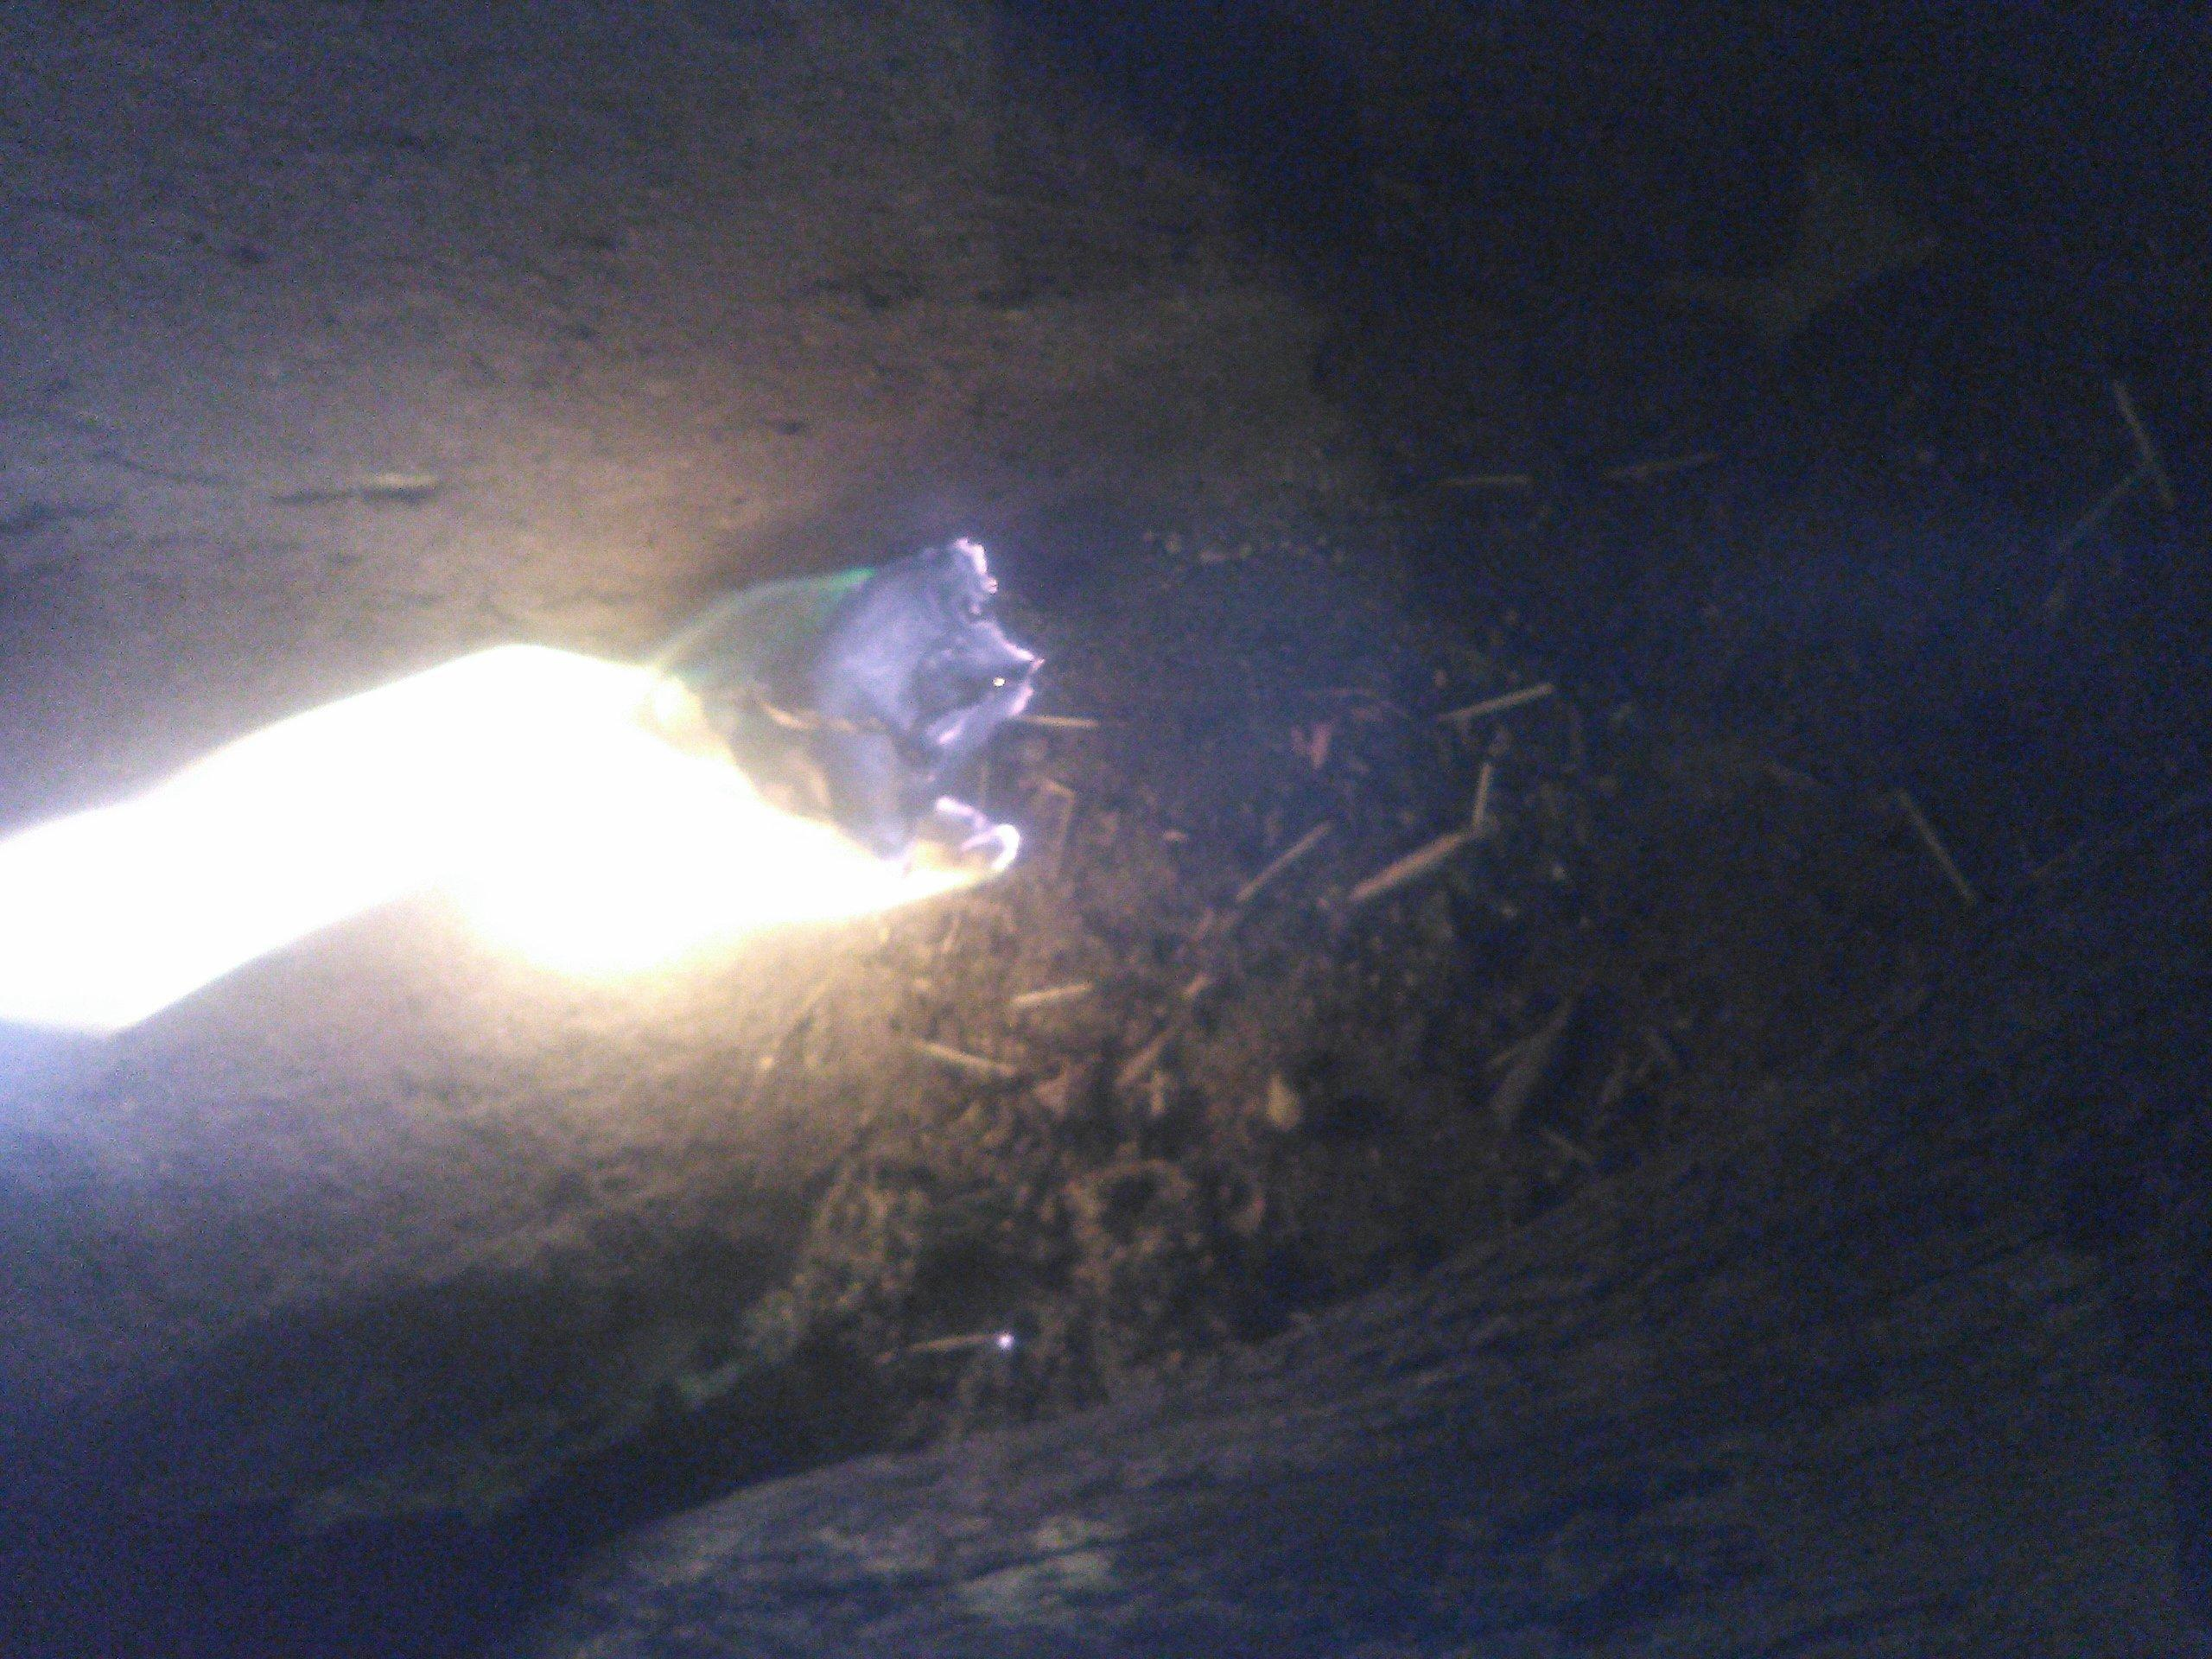fire: (808, 0, 1509, 783)
